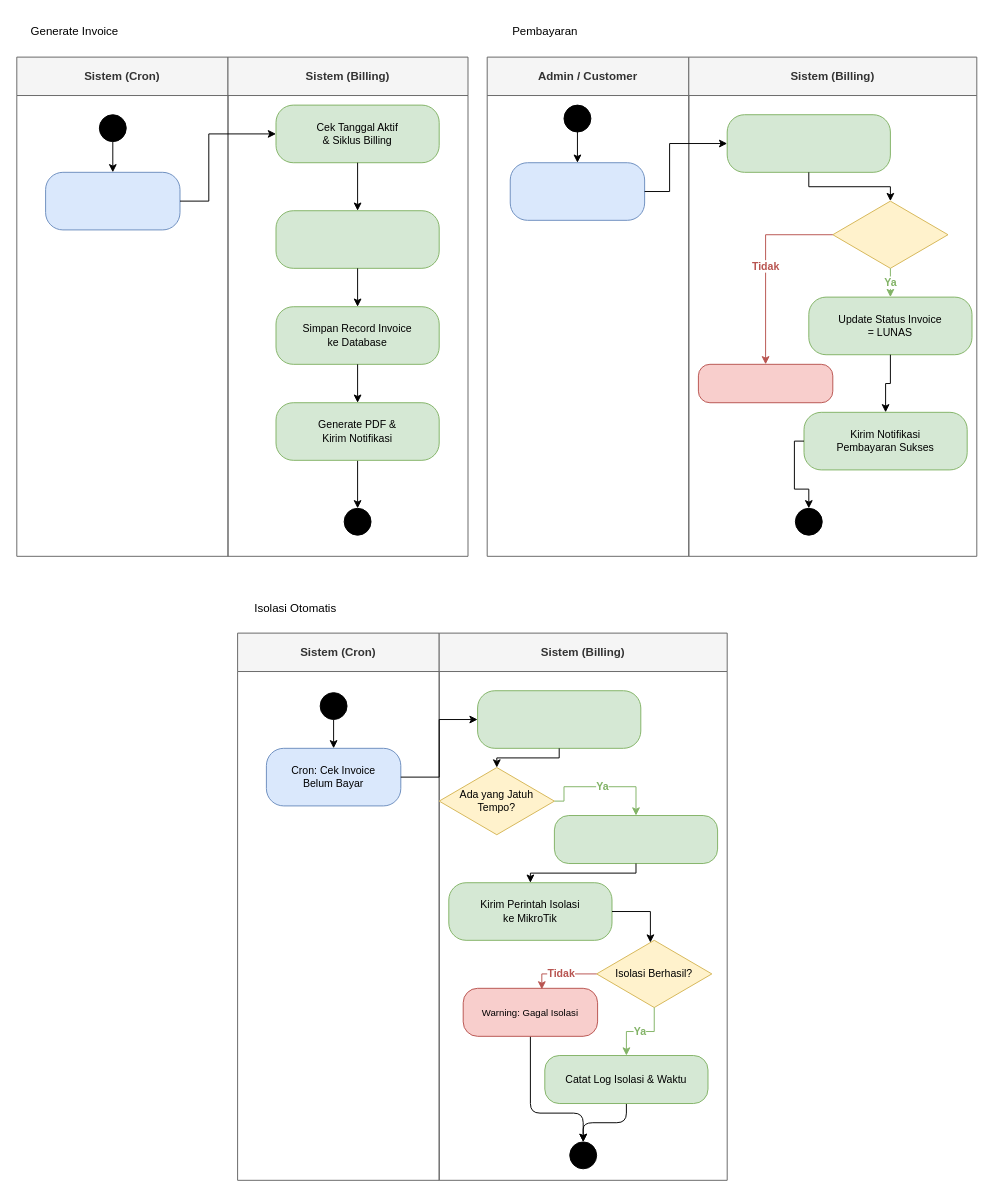
Some shapes in this 994 by 1197 pixel diagram are drawn without their labels. The centre of each missing label's shape, as x and y in pixels:
"Cron: Ambil Langganan Jatuh Tempo Hari Ini" belongs at [112,200].
"Filter Invoice Melewati Due Date" belongs at [559,719].
"Hitung Nominal Berdasarkan Paket" belongs at [357,239].
"Input Bukti Bayar / Gateway Callback" belongs at [577,191].
"Pembayaran Valid?" belongs at [890,234].
"Tandai Status = OVERDUE" belongs at [635,839].
"Tolak: Bukti Tidak Sesuai" belongs at [765,383].
"Validasi Nominal & Keaslian Bukti" belongs at [808,143].
